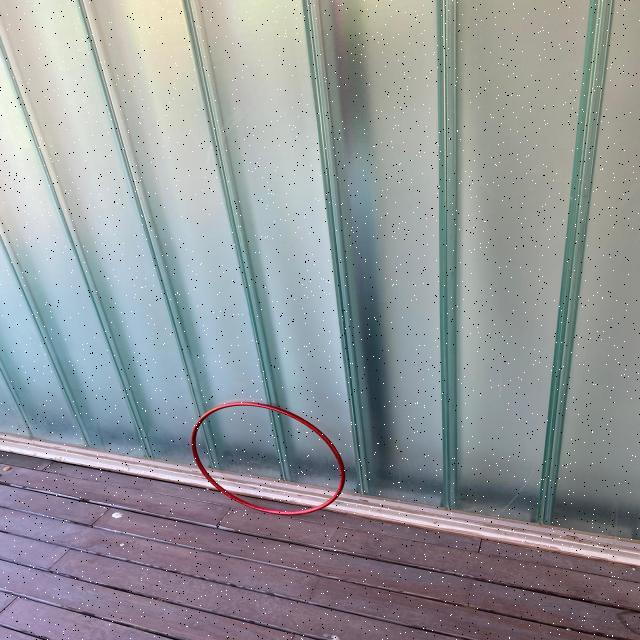Circle: (188, 400, 347, 516)
